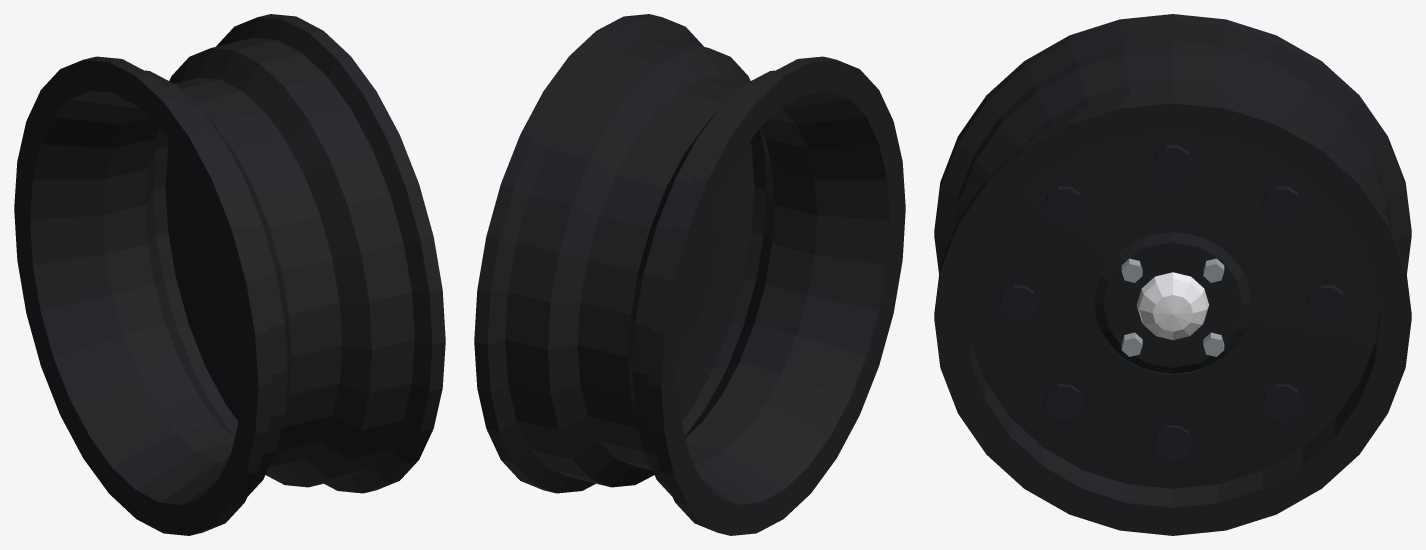
The model's file is rim_steelie_15.glb.
3 views of the same model, side by side, from view 1: azimuth 30°, elevation 25°; view 2: azimuth 150°, elevation 25°; view 3: azimuth 270°, elevation 25° (orthographic). The views are drawn at different scales.
Parts seen in each view (by area): view 1: model; view 2: model; view 3: model.
Boxes of the visible parts, box(x1,y1,x2,y2) form: model: box(14, 14, 445, 535); model: box(474, 14, 905, 535); model: box(934, 14, 1411, 535).
Bounding box in the file's own units: 0.1831 × 0.413 × 0.413.
Materials: 4 (1 with a texture image).
